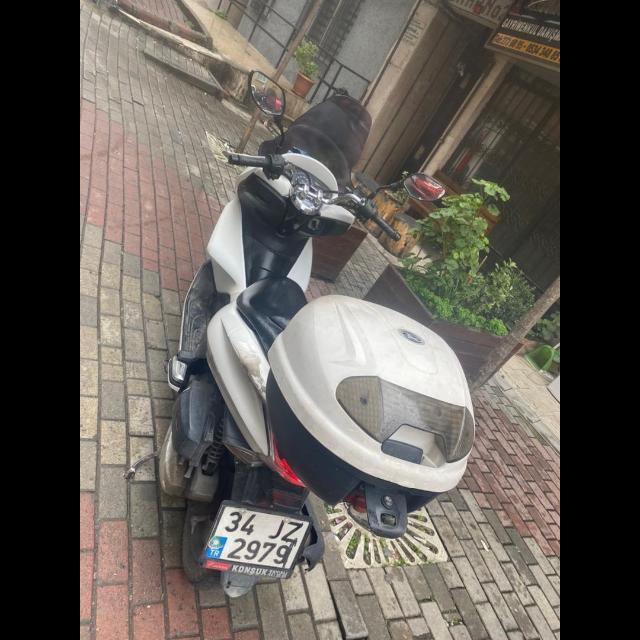Plaka: (202, 506, 310, 572)
